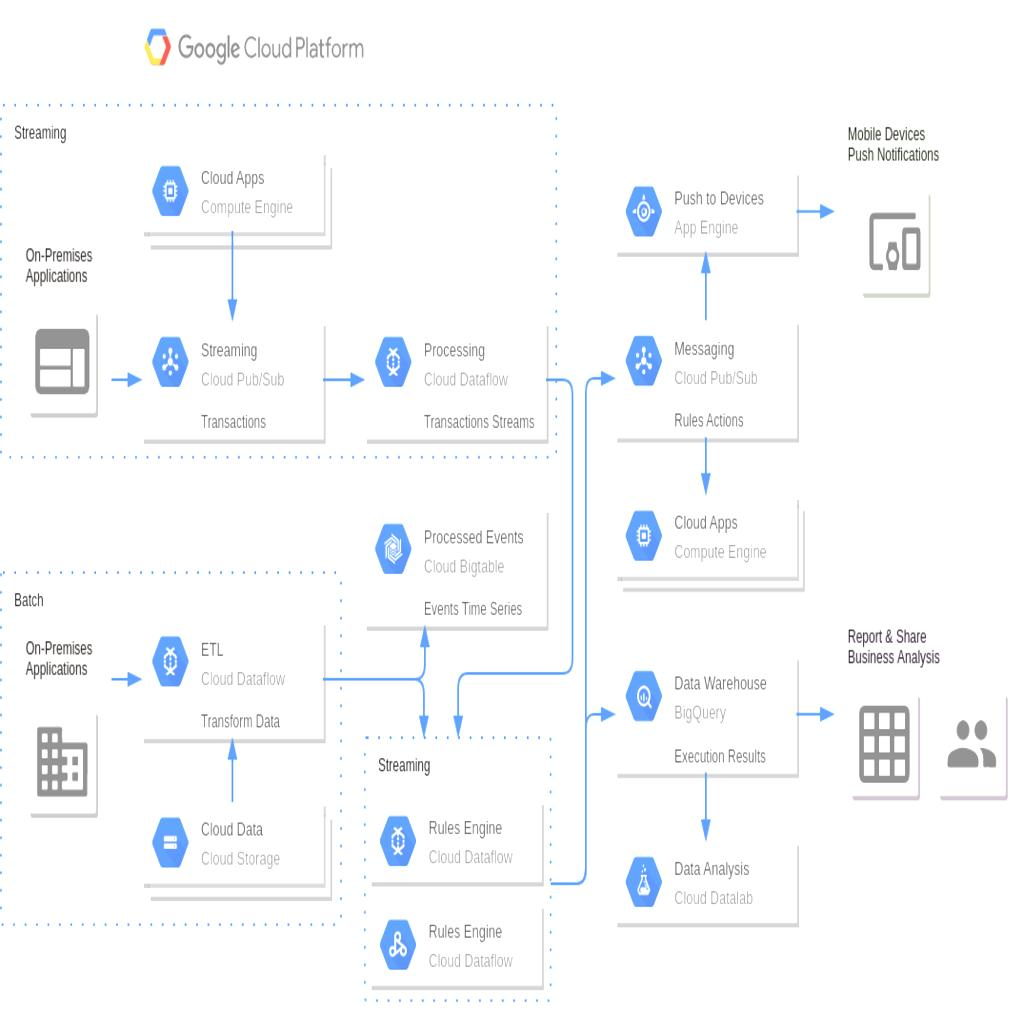actor: (837, 610, 1023, 824), (834, 106, 954, 320), (6, 226, 106, 440), (6, 618, 106, 832)
api_gateway: (142, 320, 324, 442), (616, 320, 798, 442)
compute: (364, 320, 546, 442), (142, 622, 324, 740), (616, 484, 798, 601), (616, 158, 798, 268), (142, 141, 324, 250), (616, 838, 798, 928), (363, 800, 542, 884), (363, 902, 542, 986)
data_flow: (453, 678, 581, 684), (324, 678, 421, 684), (704, 257, 709, 327), (420, 678, 424, 756), (704, 443, 709, 499), (704, 776, 709, 832), (231, 250, 236, 303), (231, 744, 236, 796), (420, 629, 424, 678), (798, 714, 830, 720), (586, 624, 612, 629), (325, 376, 345, 382), (546, 376, 566, 382), (798, 210, 818, 216), (108, 376, 124, 382), (108, 678, 124, 684), (1, 0, 1, 1)
database_storage: (616, 658, 798, 776), (364, 510, 546, 627), (142, 798, 324, 906)
trust_boundary: (124, 5, 816, 1019), (0, 130, 556, 430), (0, 570, 340, 926), (364, 736, 550, 1002)
